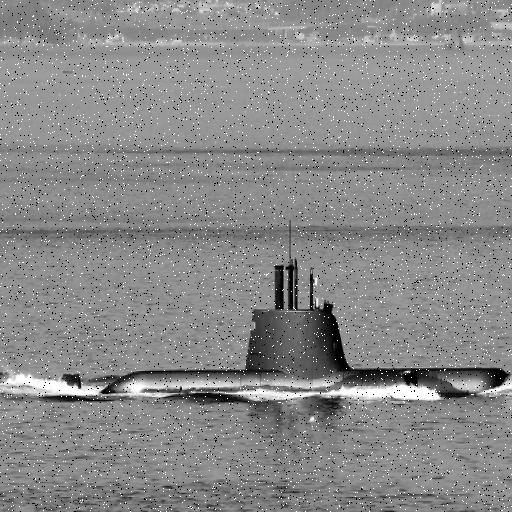submarine: (42, 309, 512, 399)
